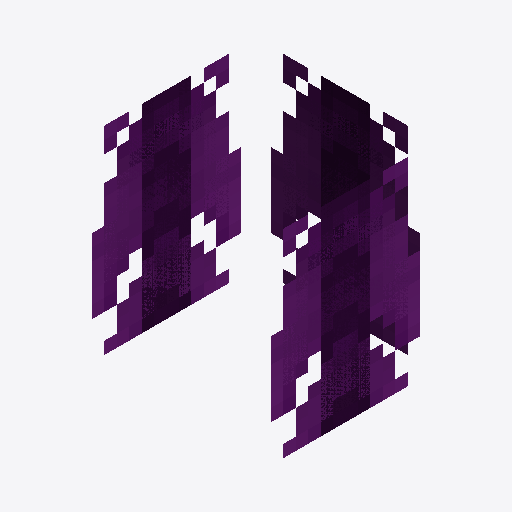
A Minecraft block model of 3 cuboids, rendered isometrically (azimuth 45°, elevation 35.3°) with the resource pack's own textures.
Visible parts, largest first — element 3, element 2, element 1.
Boxes of the visible parts, box(x1,y1,x2,y2) form: element 3: box(92, 54, 240, 354); element 2: box(271, 157, 419, 457); element 1: box(271, 54, 419, 354).
Size of the model in its own units: 16 by 16 by 16.